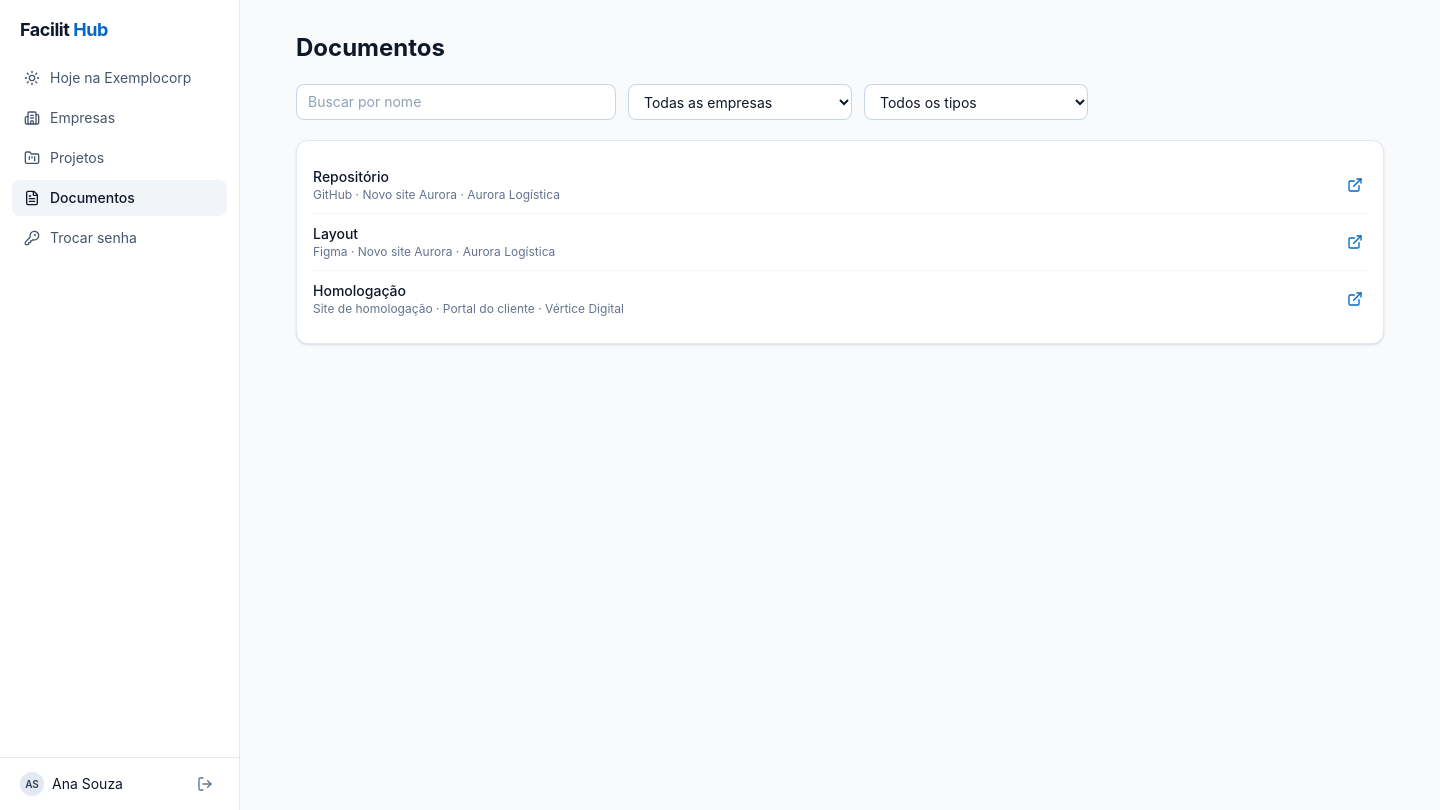
Scenario: documentos › lista os links de todos os projetos e filtra por tipo
The width and height of the screenshot is (1440, 810).
expect the text "Repositório" is shown: met, box left=313, top=168, right=389, bottom=185
expect the text "Homologação" is shown: met, box left=313, top=282, right=406, bottom=299
Select "Figma" in the dropdown named "Filtrar por tipo". click: (976, 102)
box: left=864, top=84, right=1088, bottom=120
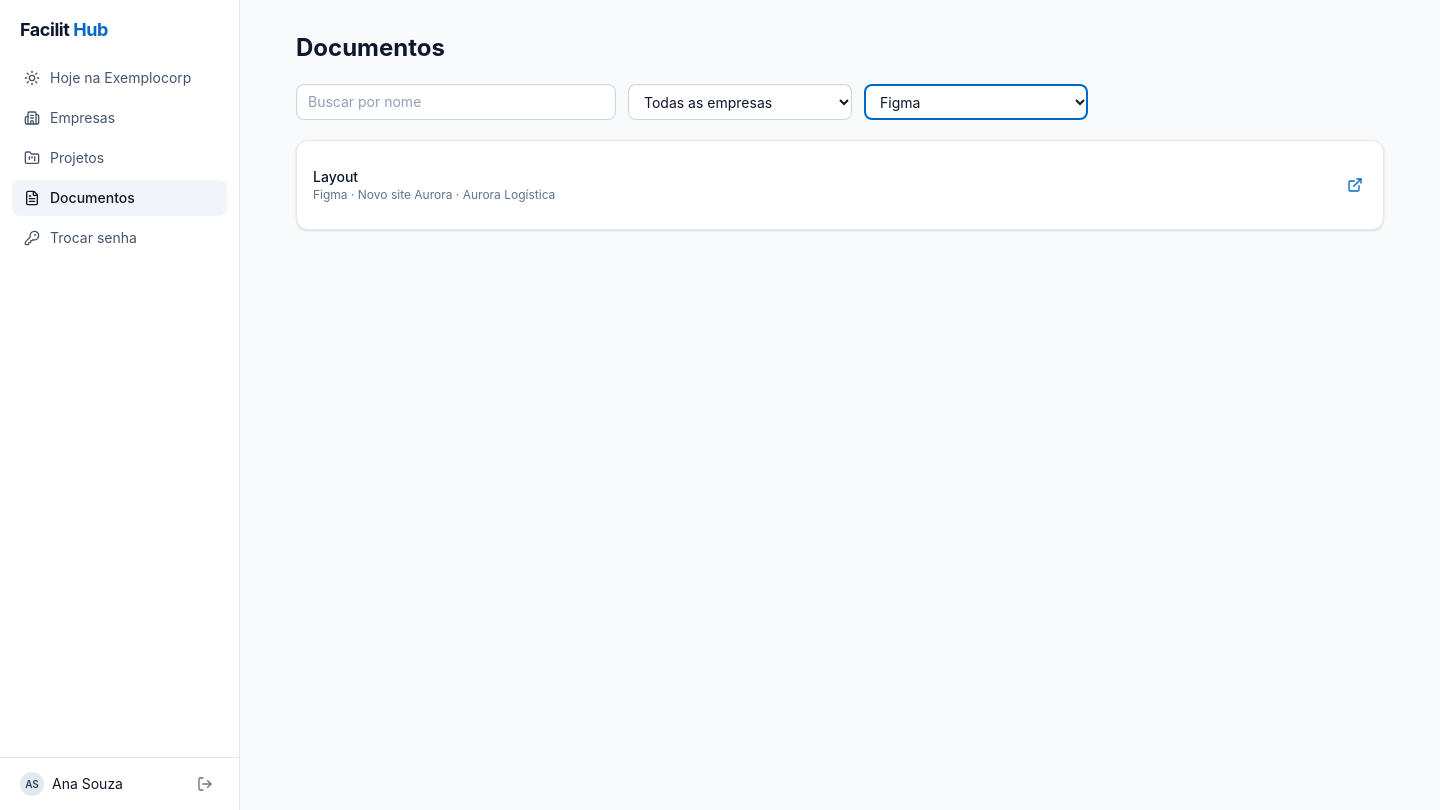
expect the text "Layout" is shown: met, box left=313, top=168, right=358, bottom=185
expect the text "Repositório" is gone: met
